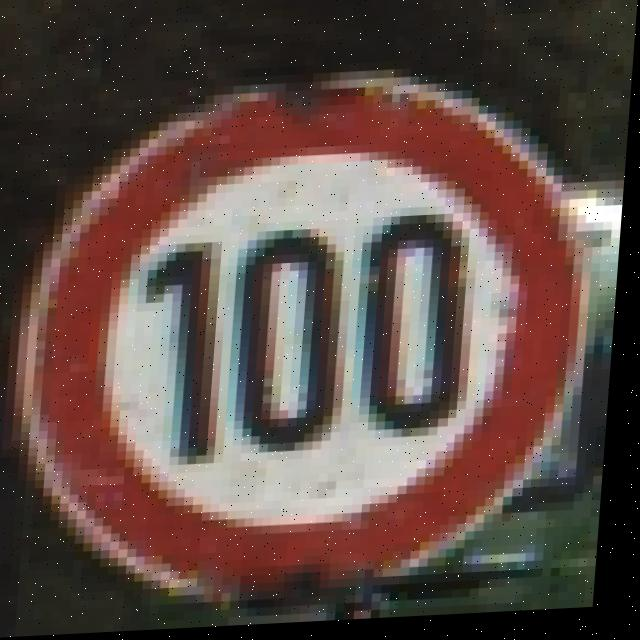speed_limit_100: (25, 89, 601, 588)
